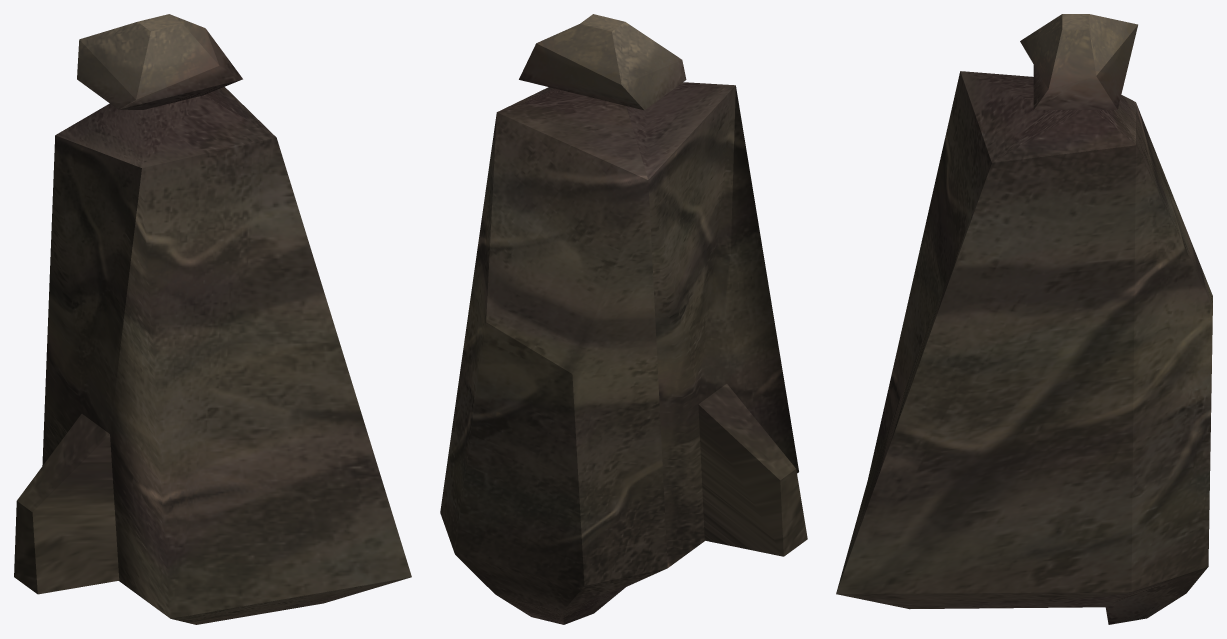
Rendered from Steen 2.fbx.
The picture shows the model from 3 angles, left to right: view 1: azimuth 30°, elevation 25°; view 2: azimuth 150°, elevation 25°; view 3: azimuth 270°, elevation 25°; orthographic projection.
Parts seen in each view (by area): view 1: pCube1; view 2: pCube1; view 3: pCube1.
Boxes of the visible parts, x1,y1,x2,y2 form: pCube1: (14, 14, 411, 624); pCube1: (440, 14, 807, 624); pCube1: (836, 14, 1212, 624).
Size of the model in its own units: 1.97 by 3.64 by 2.15.
